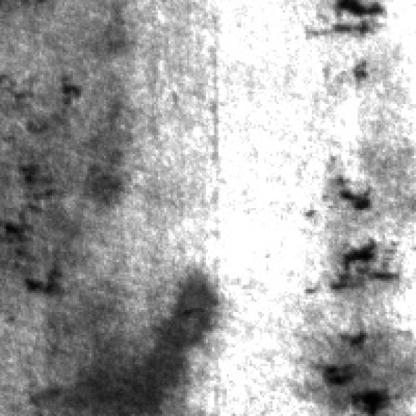inclusion: (10, 160, 73, 300)
patches: (43, 262, 218, 408)
